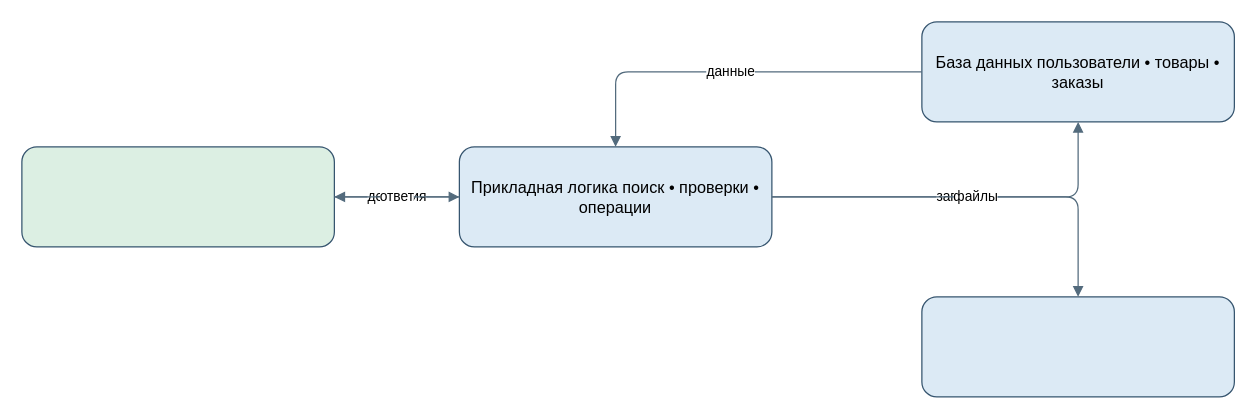
The diagram is 1256 pixels wide and 419 high, and some of its shapes have lost their labels. The centre of each missing label's shape, as x and y in pixels:
"Интерфейс вход • каталог • формы" belongs at point (177, 196).
"Файловый слой CSV • изображения" belongs at point (1077, 346).
